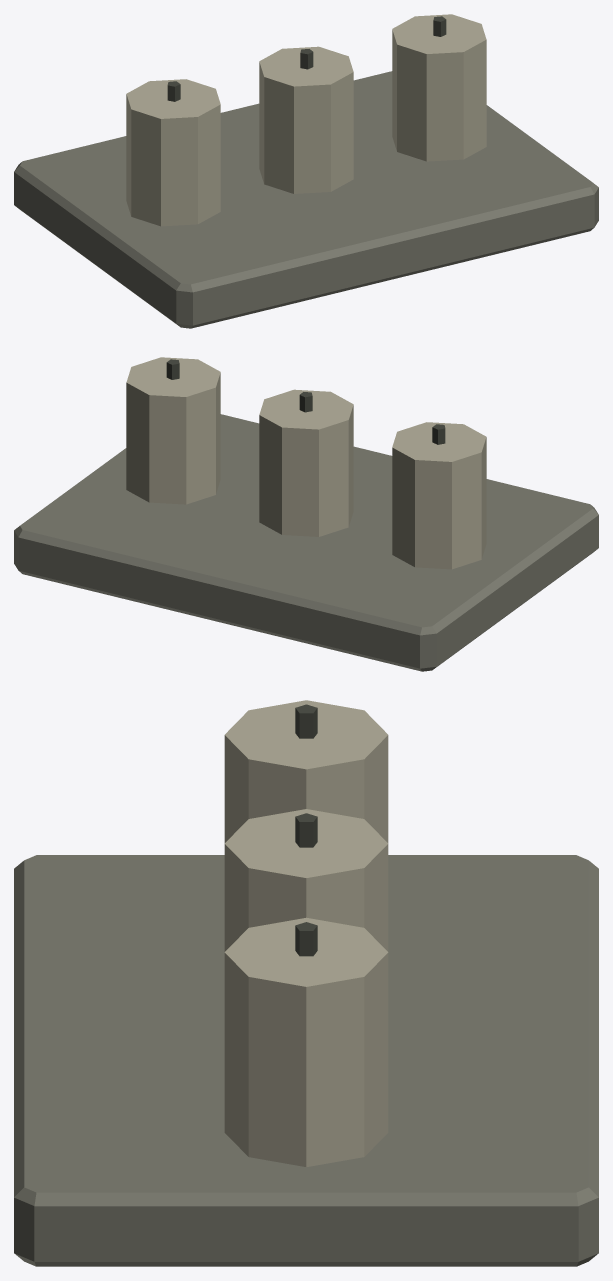
Rendered from votive-plate.glb.
3 views of the same model, one above another, from view 1: azimuth 30°, elevation 25°; view 2: azimuth 150°, elevation 25°; view 3: azimuth 270°, elevation 25° (orthographic). The views are drawn at different scales.
Visible parts, largest first — view 1: votive-plate__body; view 2: votive-plate__body; view 3: votive-plate__body.
Part boxes in pixels (<box>): votive-plate__body: <box>14,14,598,328</box>; votive-plate__body: <box>14,357,598,671</box>; votive-plate__body: <box>14,700,598,1266</box>.
Size of the model in its own units: 0.35 by 0.132 by 0.25.
